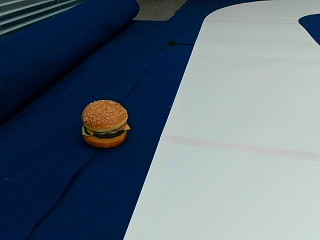burger: (79, 97, 129, 147)
